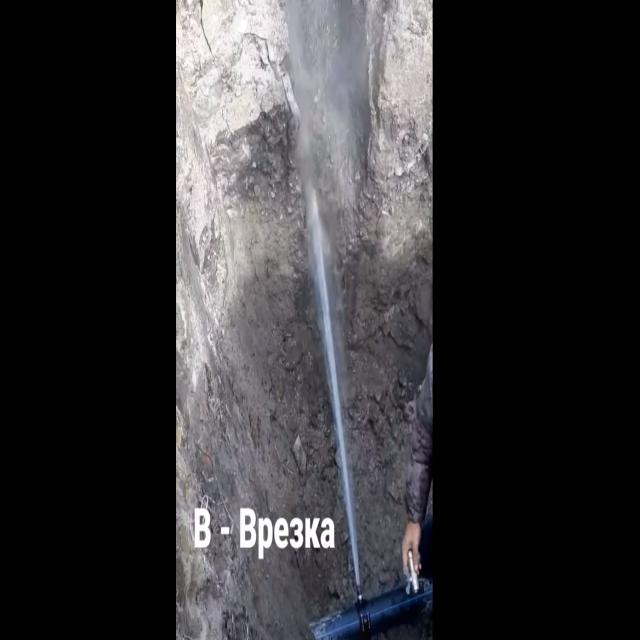leak: (306, 182, 361, 602)
